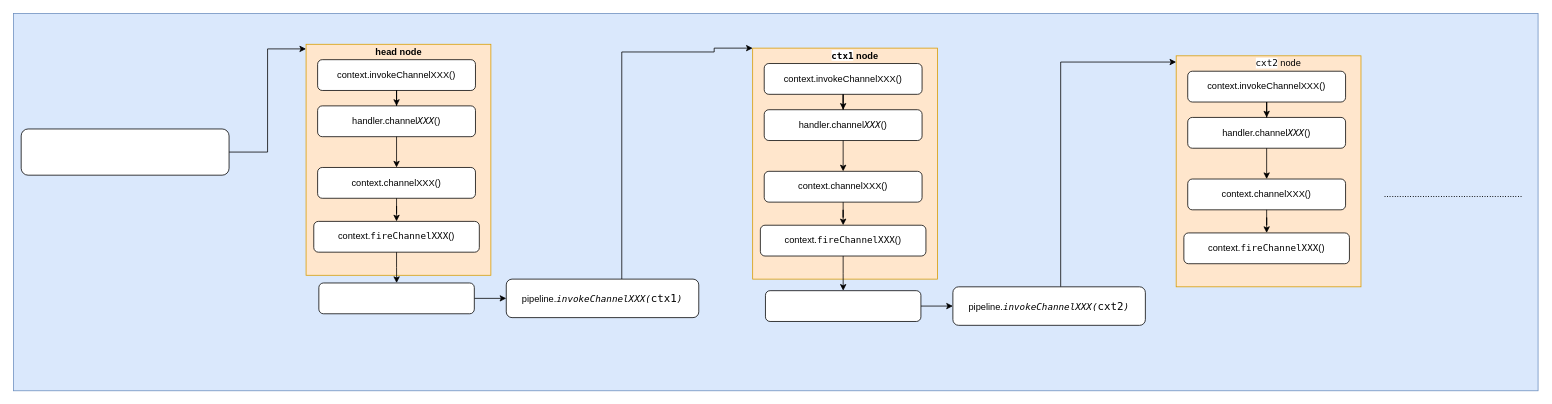
Image size: 1552x404. Some labels were removed from this diagram. The centre of each missing label's shape, as x and y in pixels:
ctx1=findContextYYbound: the point at 396,298
cxt2=findContextYYbound: the point at 843,305
pipeline. invokeChannelXXX(head): the point at 124,151
